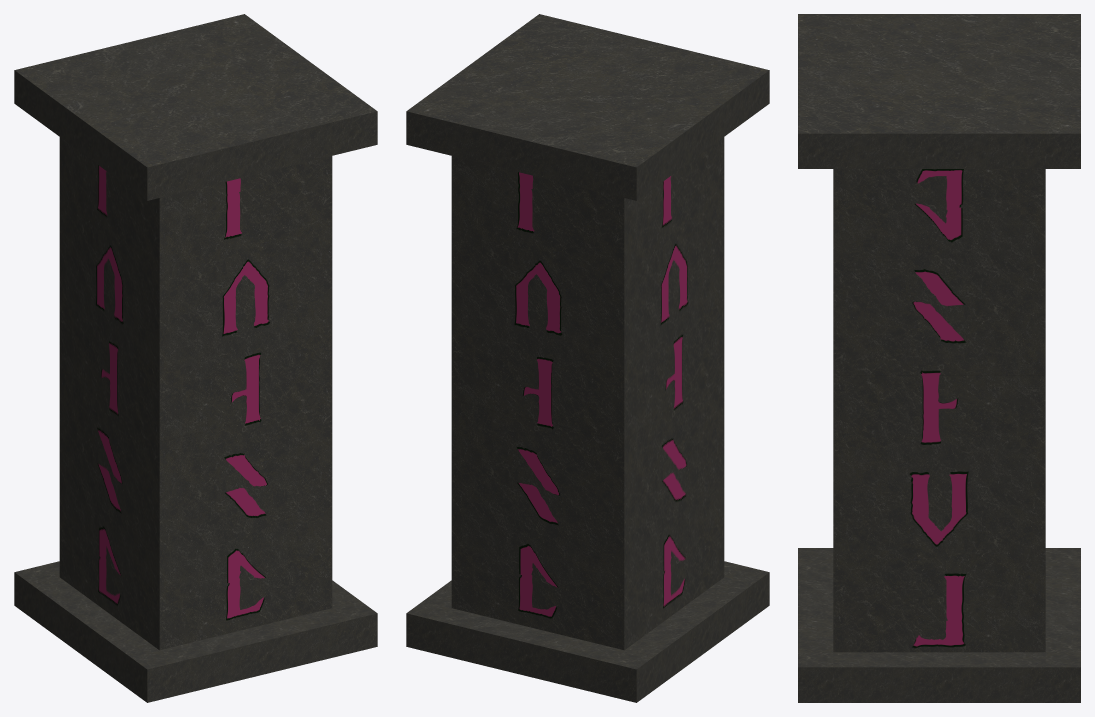
Rendered from Pillar.fbx.
The picture shows the model from 3 angles, left to right: view 1: azimuth 30°, elevation 25°; view 2: azimuth 150°, elevation 25°; view 3: azimuth 270°, elevation 25°; orthographic projection. The views are drawn at different scales.
Parts seen in each view (by area): view 1: pCube9; view 2: pCube9; view 3: pCube9.
Boxes of the visible parts, x1,y1,x2,y2 form: pCube9: (14, 14, 377, 702); pCube9: (406, 14, 769, 702); pCube9: (798, 14, 1080, 702).
Bounding box in the file's own units: 180 × 400 × 180.
